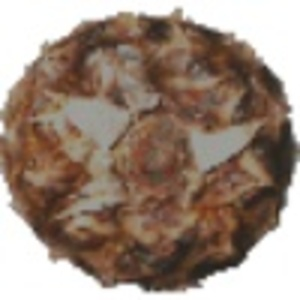abacaxi: (3, 9, 294, 281)
